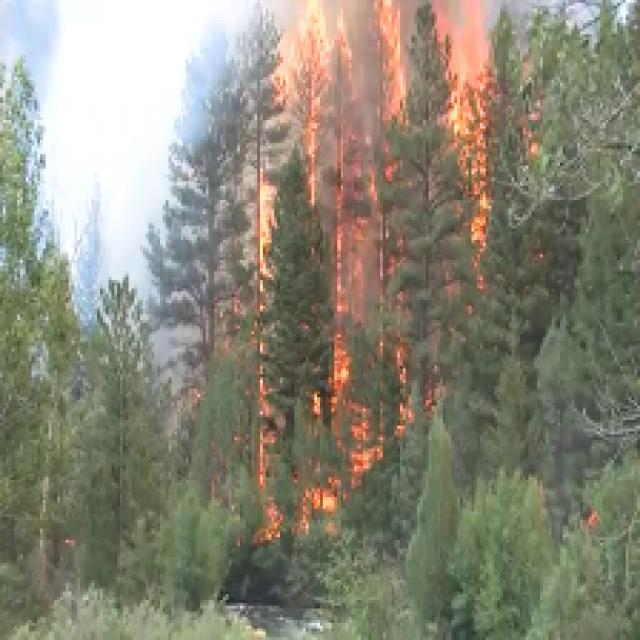Fire: (289, 7, 488, 134), (464, 144, 494, 293), (253, 176, 276, 283), (350, 422, 379, 482), (330, 329, 350, 412), (297, 485, 340, 521)
